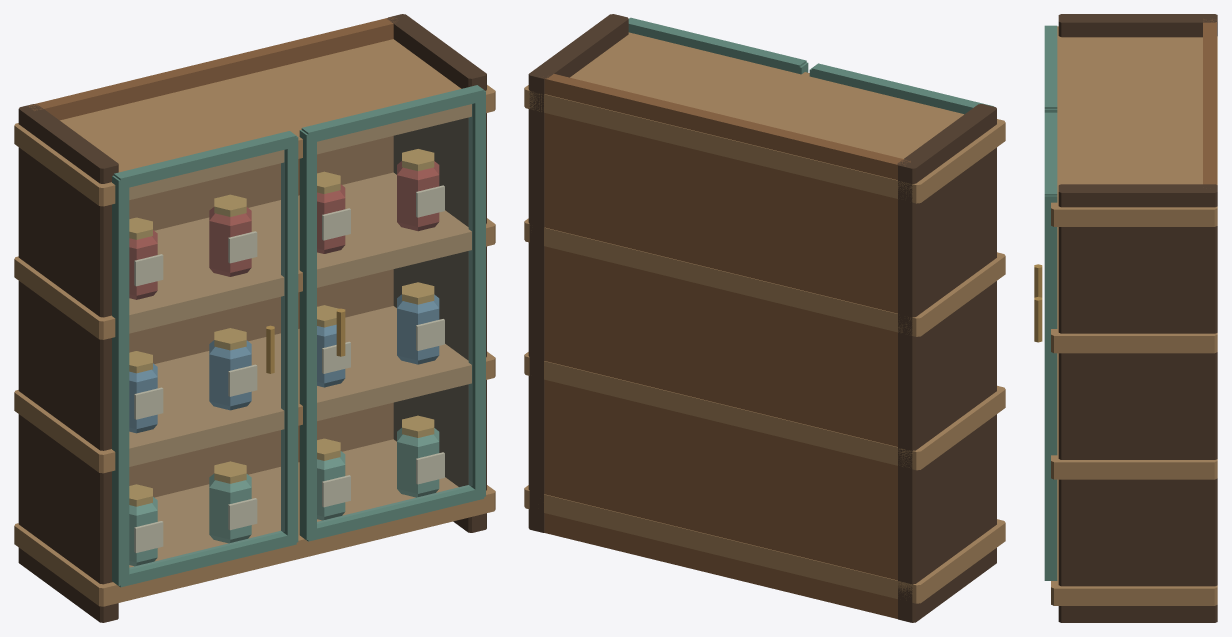
The model's file is cabinet_medicine.glb.
3 renders of one model, left to right at view 1: azimuth 30°, elevation 25°; view 2: azimuth 150°, elevation 25°; view 3: azimuth 270°, elevation 25°, orthographic. The views are drawn at different scales.
Visible parts, largest first — view 1: geometry, glass_doors; view 2: geometry; view 3: geometry.
Boxes of the visible parts, x1=… form: geometry: x1=14, y1=14, x2=495, y2=622; glass_doors: x1=130, y1=104, x2=471, y2=568; geometry: x1=524, y1=14, x2=1005, y2=622; geometry: x1=1034, y1=14, x2=1217, y2=622.
Bounding box in the file's own units: 1.69 × 1.85 × 0.7156.
